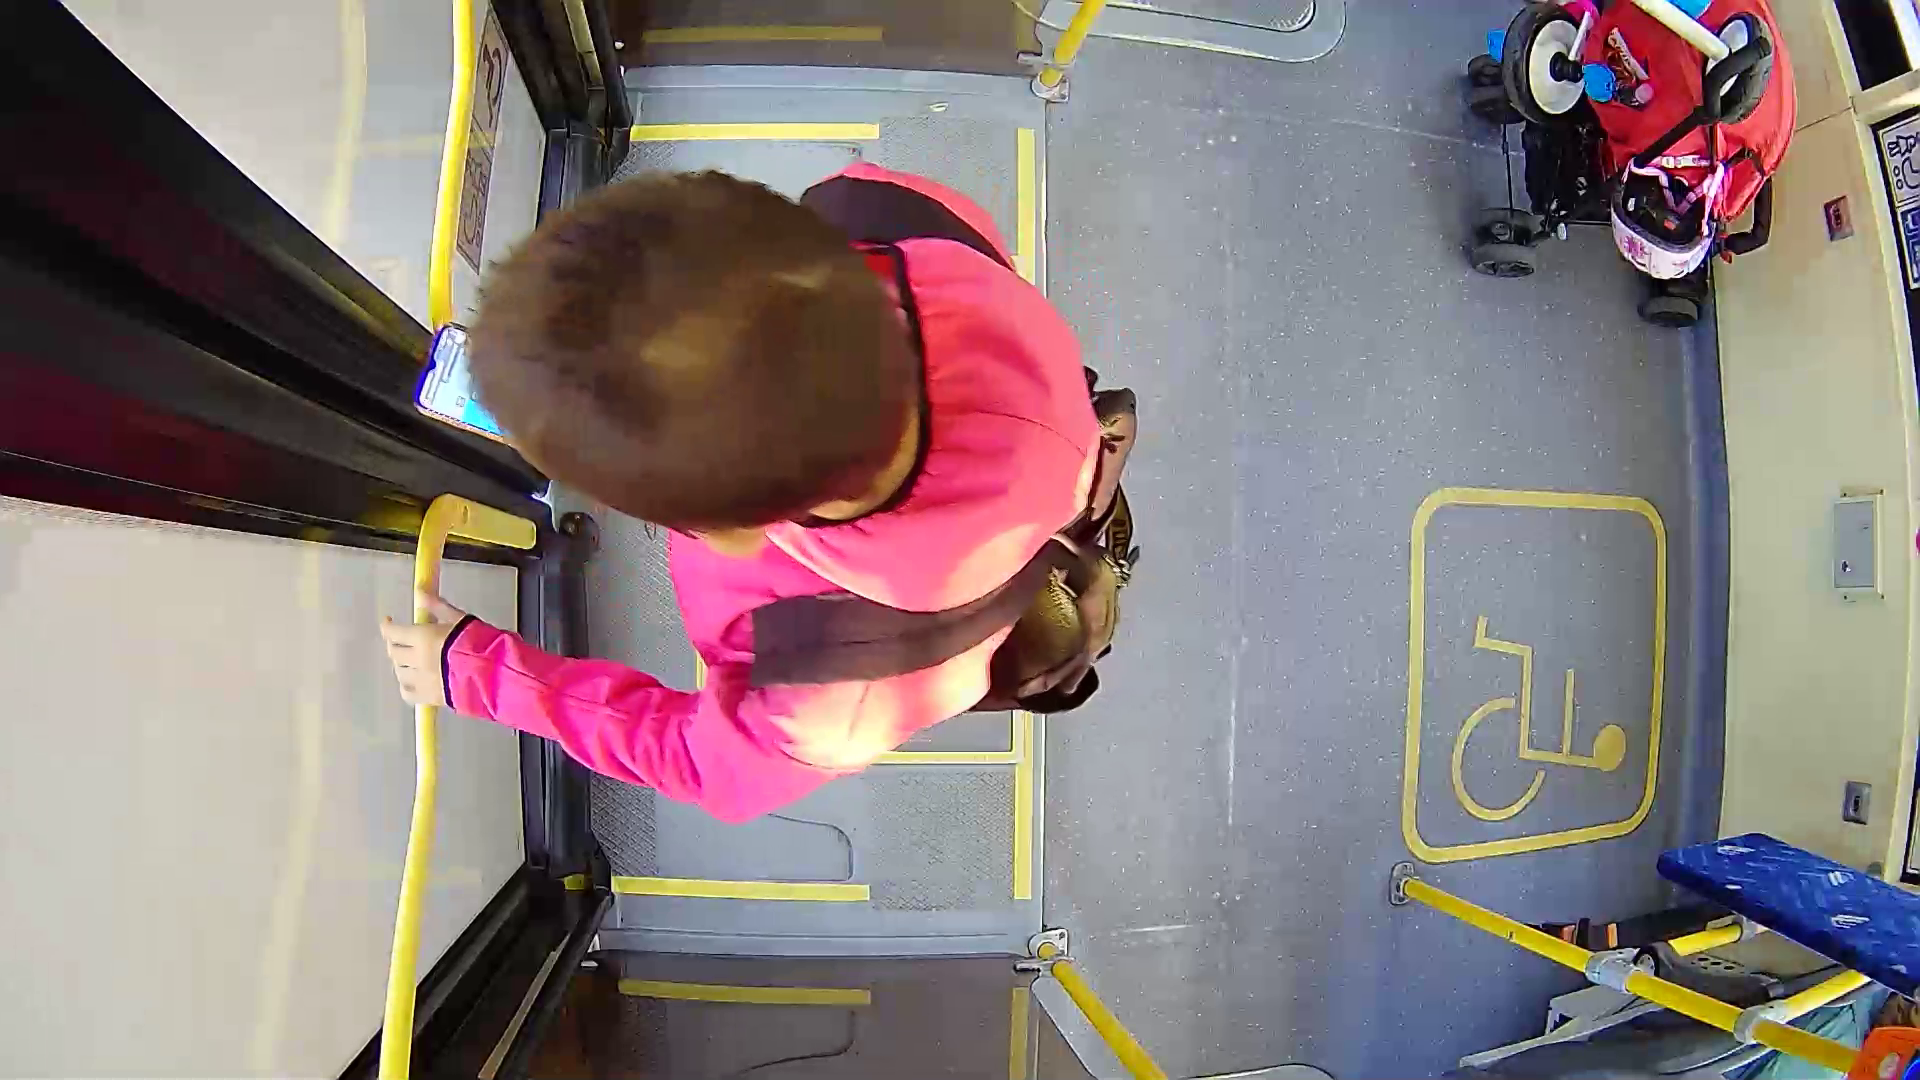person: (420, 155, 1238, 833)
